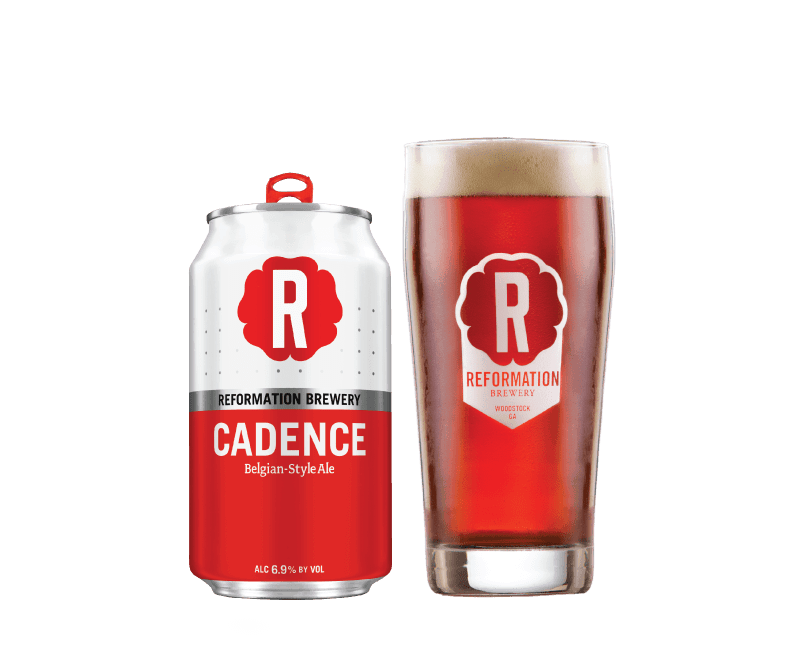beer can: (190, 190, 398, 607)
